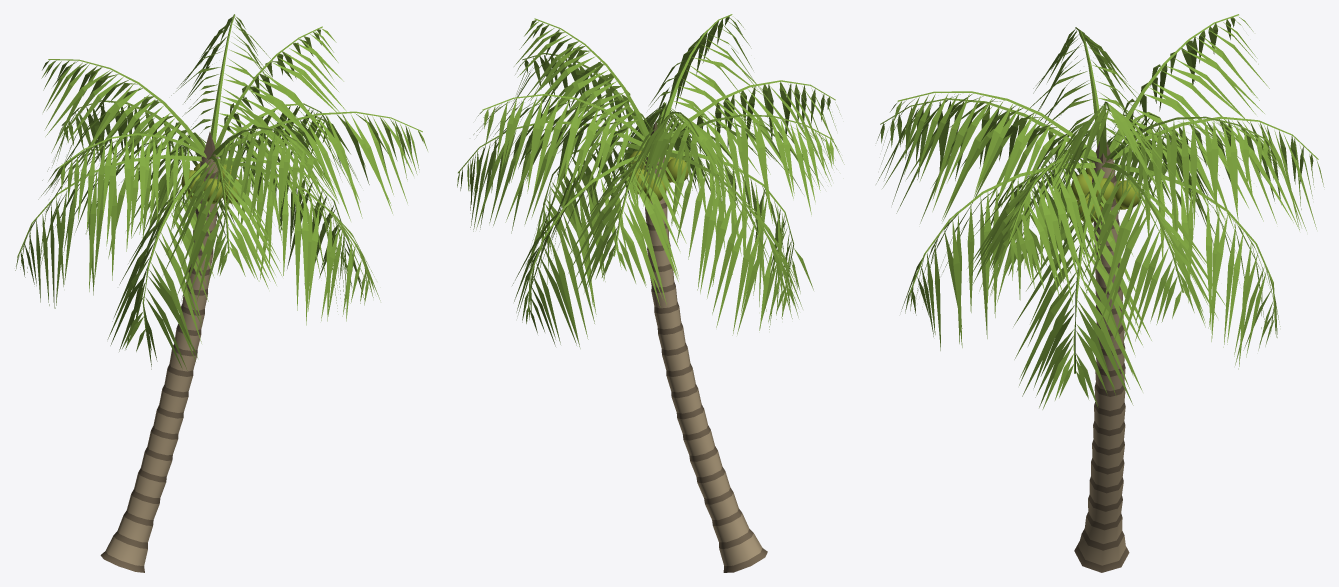
The model's file is coconut.glb.
The picture shows the model from 3 angles, left to right: view 1: azimuth 30°, elevation 25°; view 2: azimuth 150°, elevation 25°; view 3: azimuth 270°, elevation 25°; orthographic projection. The views are drawn at different scales.
Parts seen in each view (by area): view 1: coconut_mesh; view 2: coconut_mesh; view 3: coconut_mesh.
Part boxes in pixels (<box>): coconut_mesh: <box>15,14,427,572</box>; coconut_mesh: <box>457,14,844,572</box>; coconut_mesh: <box>876,14,1324,572</box>.
Bounding box in the file's own units: 5.32 × 7.29 × 5.27.
